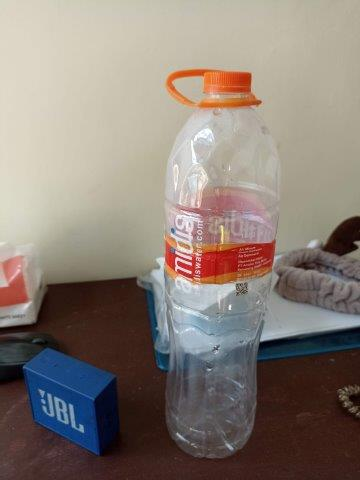botolplastik: (165, 72, 280, 460)
